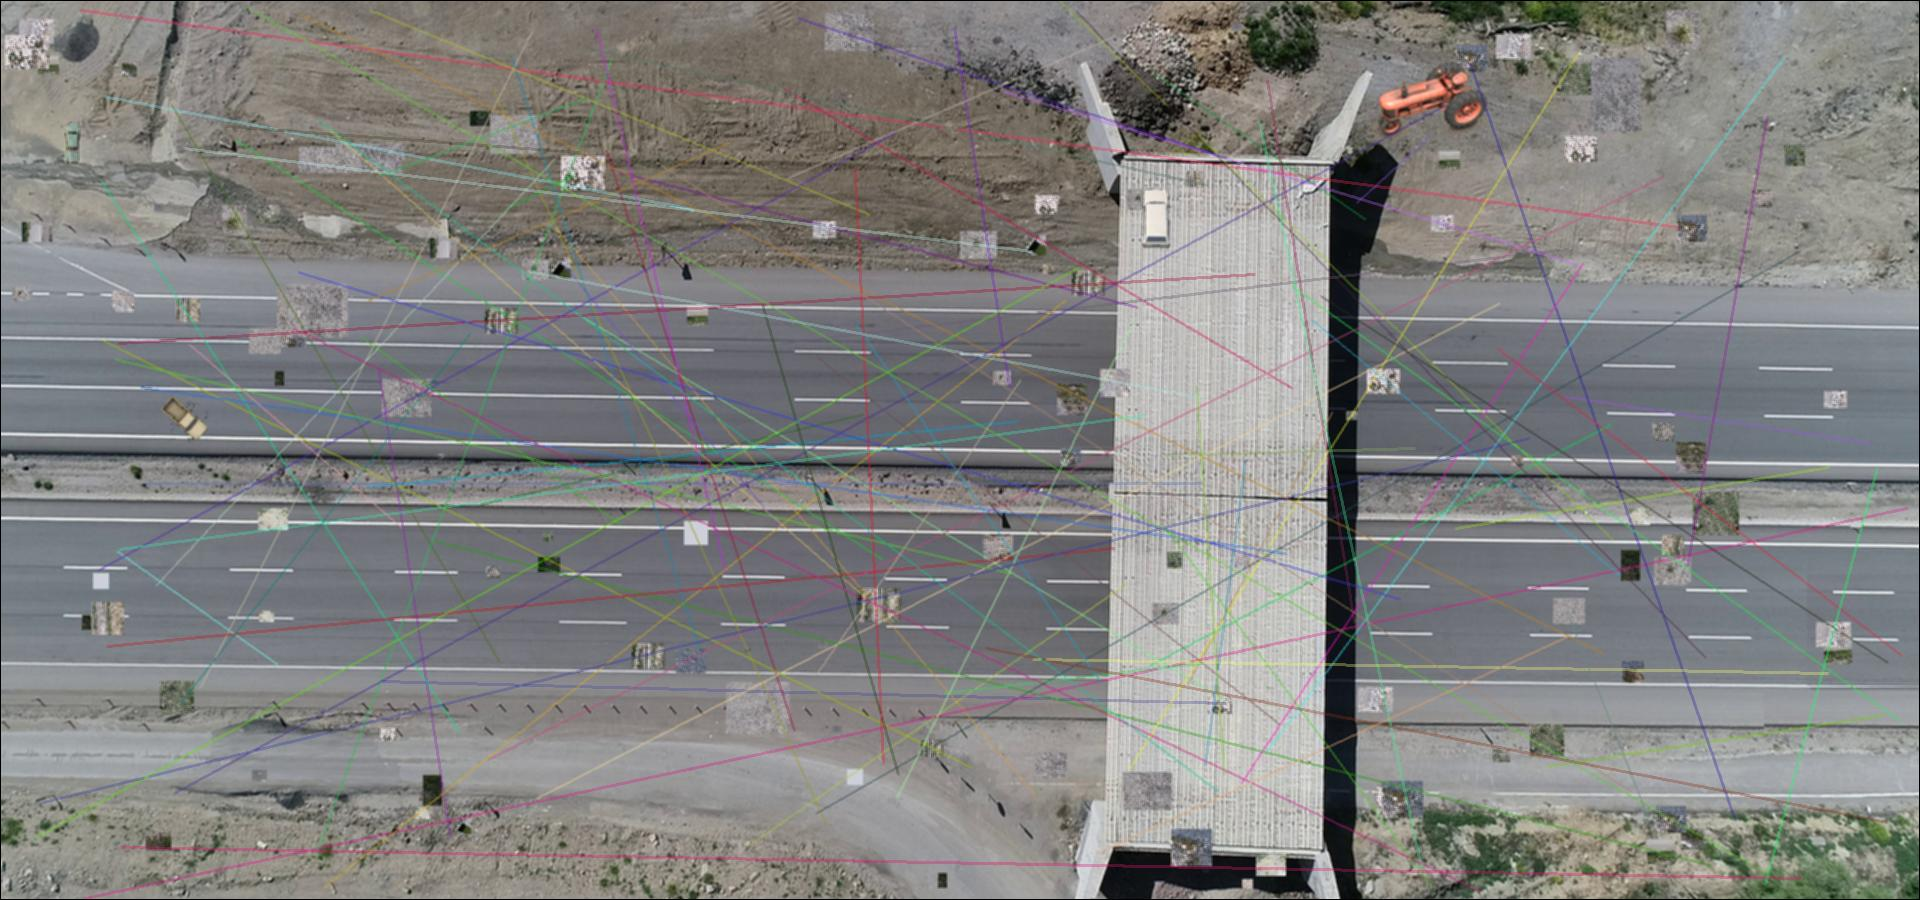arac: (1371, 61, 1491, 140), (160, 394, 208, 442), (1141, 189, 1172, 249), (64, 121, 80, 164)
